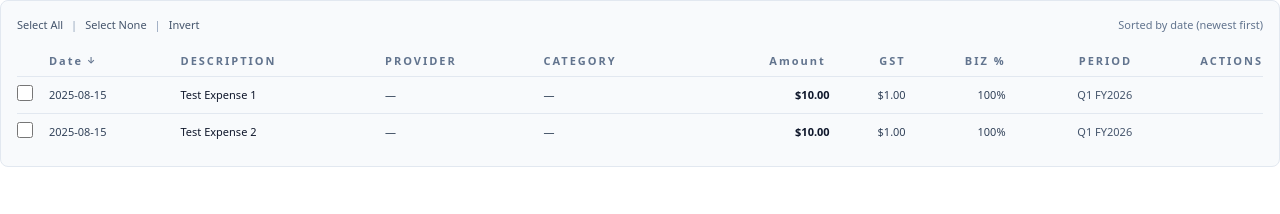
Test: ExpensesTable › Bulk Operations › clears selection after bulk delete
The width and height of the screenshot is (1280, 214).
Click the checkbox named "select expense".
click(25, 93)  # box x1=17 y1=85 x2=33 y2=101
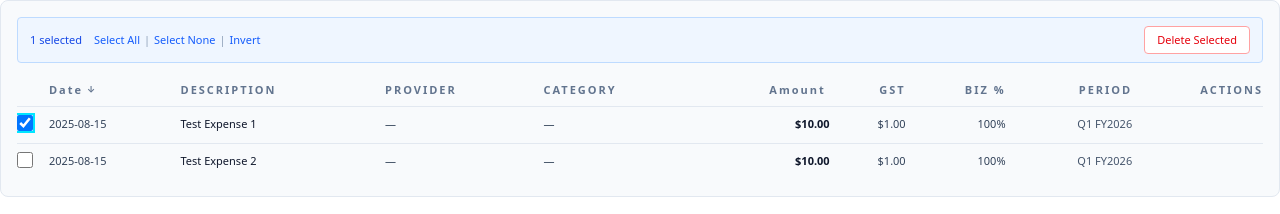
Click the button "Delete Selected".
click(1197, 40)  # box x1=1144 y1=26 x2=1250 y2=54
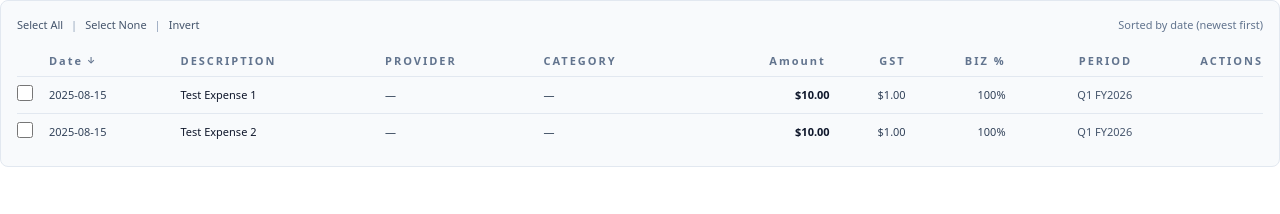
expect the text "selected" is gone: met
